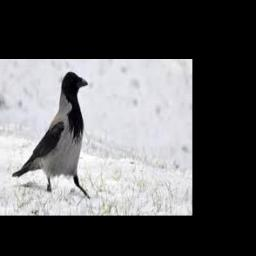Crow: (11, 70, 89, 198)
